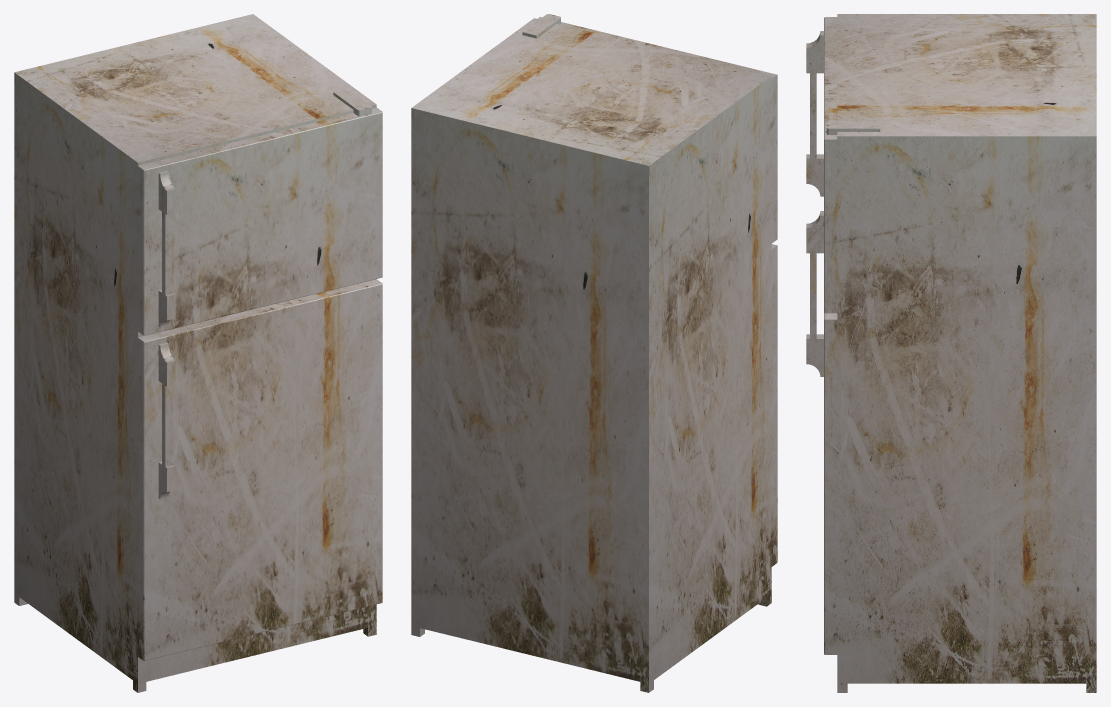
Rendered from fridge.FBX.
3 renders of one model, left to right at view 1: azimuth 30°, elevation 25°; view 2: azimuth 150°, elevation 25°; view 3: azimuth 270°, elevation 25°, orthographic. The views are drawn at different scales.
Visible parts, largest first — view 1: Refr; view 2: Refr; view 3: Refr.
Boxes of the visible parts, x1,y1,x2,y2 form: Refr: (14, 14, 382, 692); Refr: (411, 14, 777, 692); Refr: (806, 14, 1096, 692).
Size of the model in its own units: 9.93 by 21.18 by 9.95.
Materials: 1 (1 with a texture image).
